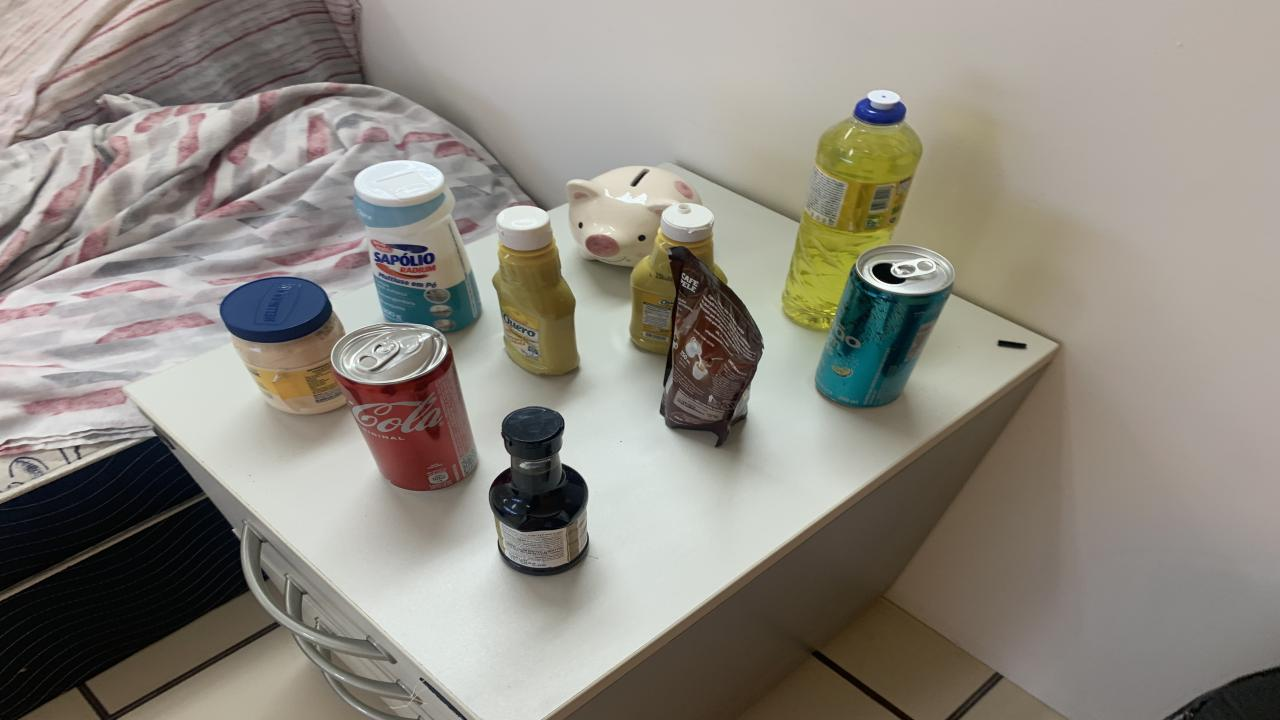Cleaner-Cleanup_Items: (355, 161, 482, 332)
Coffee-Pantry_Items: (660, 248, 762, 446)
Coke-Drinks: (330, 322, 478, 491)
Detergent-Cleanup_Items: (782, 90, 922, 328)
English_Sauce-Pantry_Items: (490, 407, 588, 576)
Mayonnaise-Pantry_Items: (220, 278, 345, 414)
Mustard-Pantry_Items: (492, 206, 580, 375), (630, 204, 728, 354)
Pig_Safe-Miscellaneous: (565, 167, 700, 266)
Tea-Drinks: (815, 244, 955, 407)
